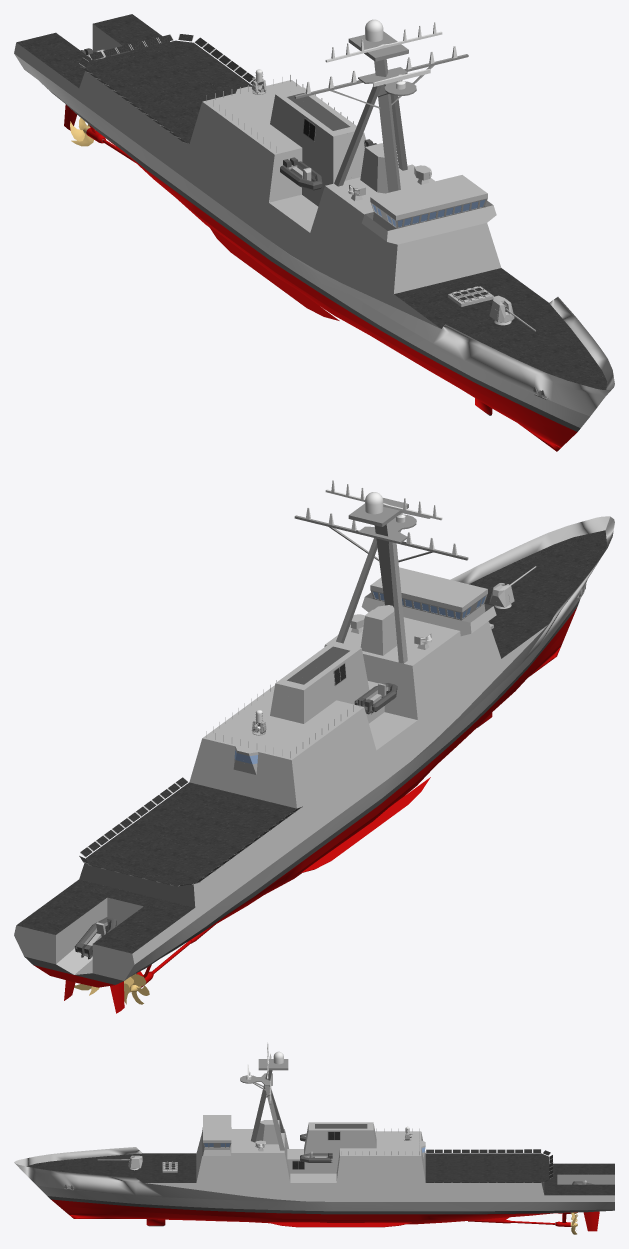
File: quzhujian.glb
The picture shows the model from 3 angles, top to bottom: view 1: azimuth 30°, elevation 25°; view 2: azimuth 150°, elevation 25°; view 3: azimuth 270°, elevation 25°; orthographic projection. The views are drawn at different scales.
Parts seen in each view (by area): view 1: xuyangjian; view 2: xuyangjian; view 3: xuyangjian.
Part boxes in pixels (x1,y1,x2,y2): xuyangjian: [14, 14, 614, 451]; xuyangjian: [14, 480, 614, 1013]; xuyangjian: [14, 1042, 614, 1234].
Bounding box in the file's own units: 23.55 × 40.82 × 127.
Materials: 9 (2 with a texture image).
